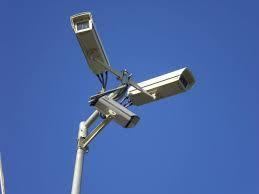tutu: (68, 10, 114, 78), (126, 64, 200, 106), (92, 95, 142, 132)
